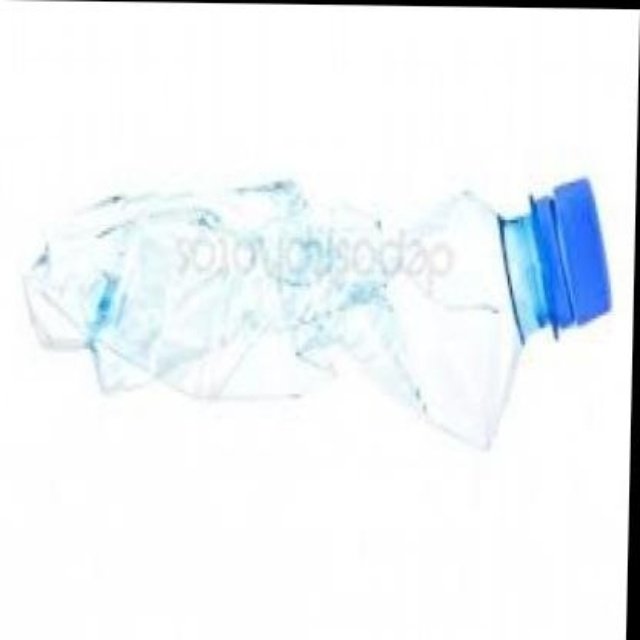trash: (25, 178, 609, 446)
